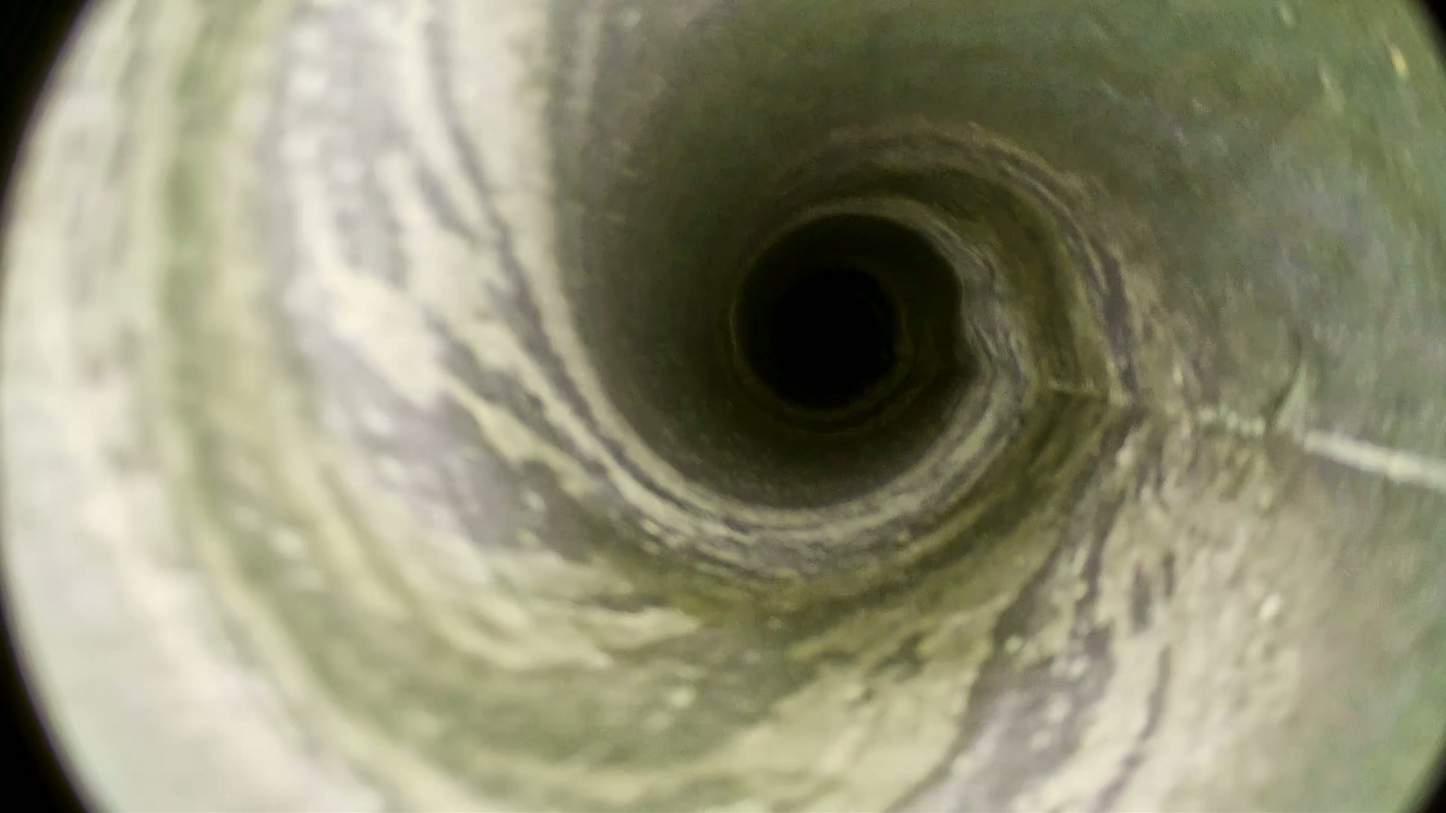hole: (773, 286, 880, 394)
